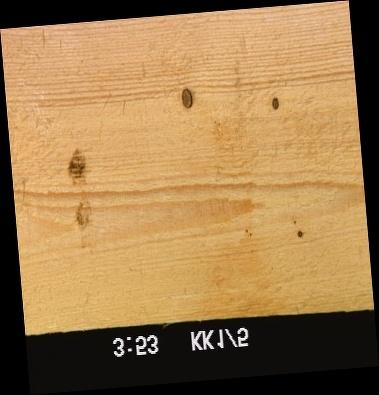dry_knot: (180, 87, 192, 110)
small_knot: (269, 96, 279, 112), (295, 229, 303, 239)
